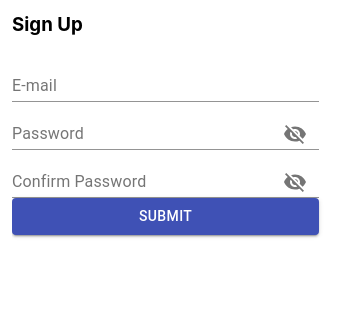
tests for shared input component › submit when no inputs
The width and height of the screenshot is (337, 324).
Click the submit button. click: (166, 217)
box: [12,198,319,235]
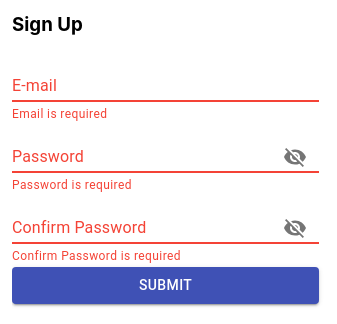
Expected: the text "Email is required" is shown, [12,107,107,121]
Expected: the text "Password is required" is shown, [12,178,132,192]
Expected: the text "Confirm Password is required" is shown, [12,249,181,263]
